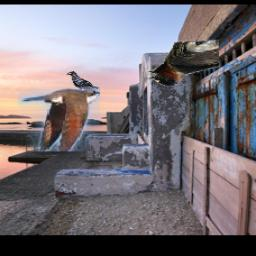Crow: (66, 70, 100, 96)
Cuckoo: (19, 87, 101, 151)
Swallow: (147, 41, 220, 87)
